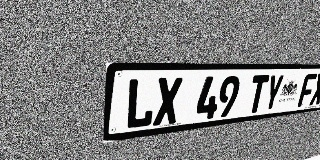4: (195, 76, 222, 120)
9: (216, 76, 241, 118)
F: (297, 74, 317, 107)
L: (125, 78, 156, 130)
T: (246, 75, 270, 114)
X: (153, 77, 183, 126), (309, 73, 320, 105)
Y: (262, 75, 284, 112)
